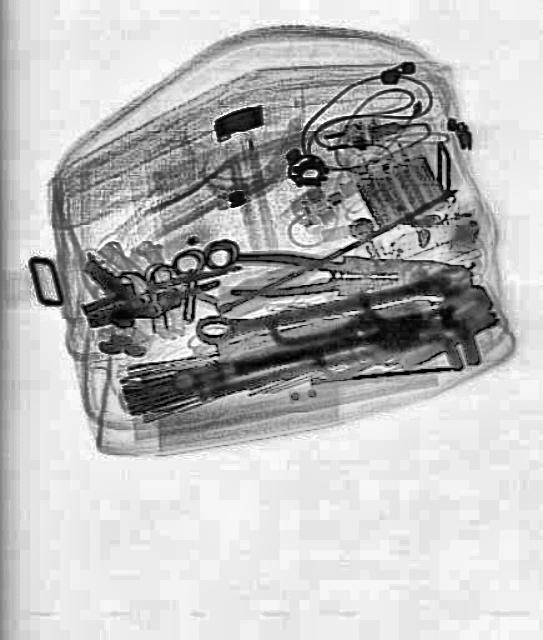Pliers: (228, 250, 464, 300)
Wrench: (192, 262, 469, 348)
